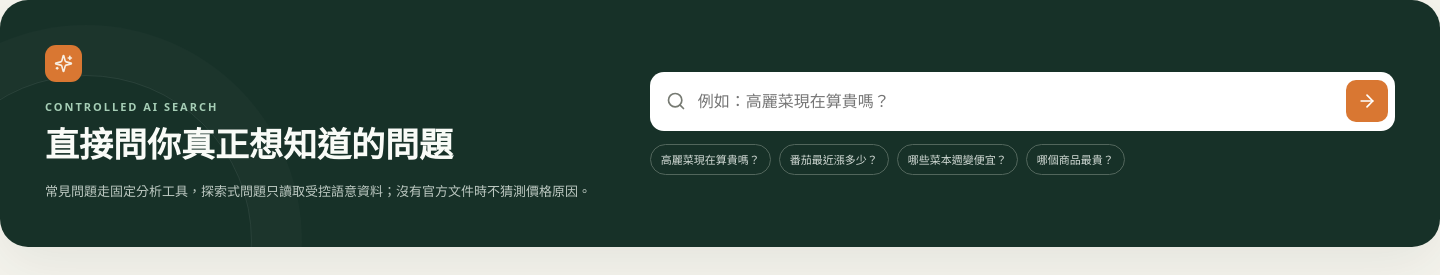
Test: AiSearch Phase 5 › validates an empty question
The width and height of the screenshot is (1440, 275).
Click the button named "送出問題". click: (1367, 101)
box: [1346,80,1388,122]
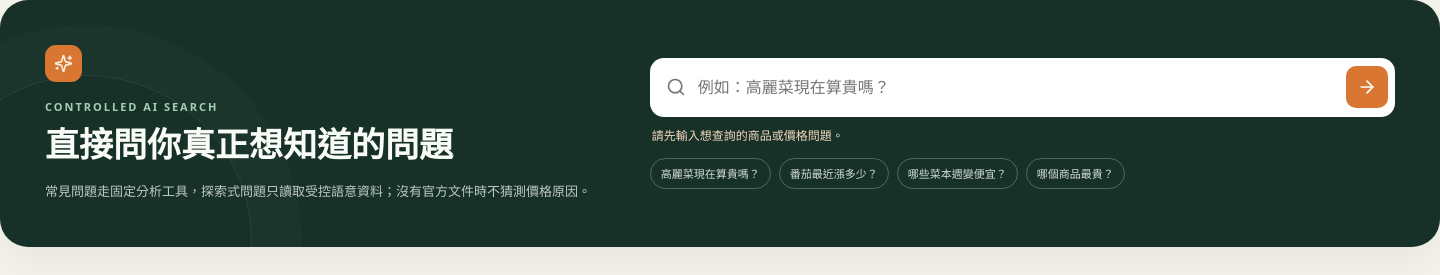
Expected: the message shows "請先輸入", [652,126,844,144]
